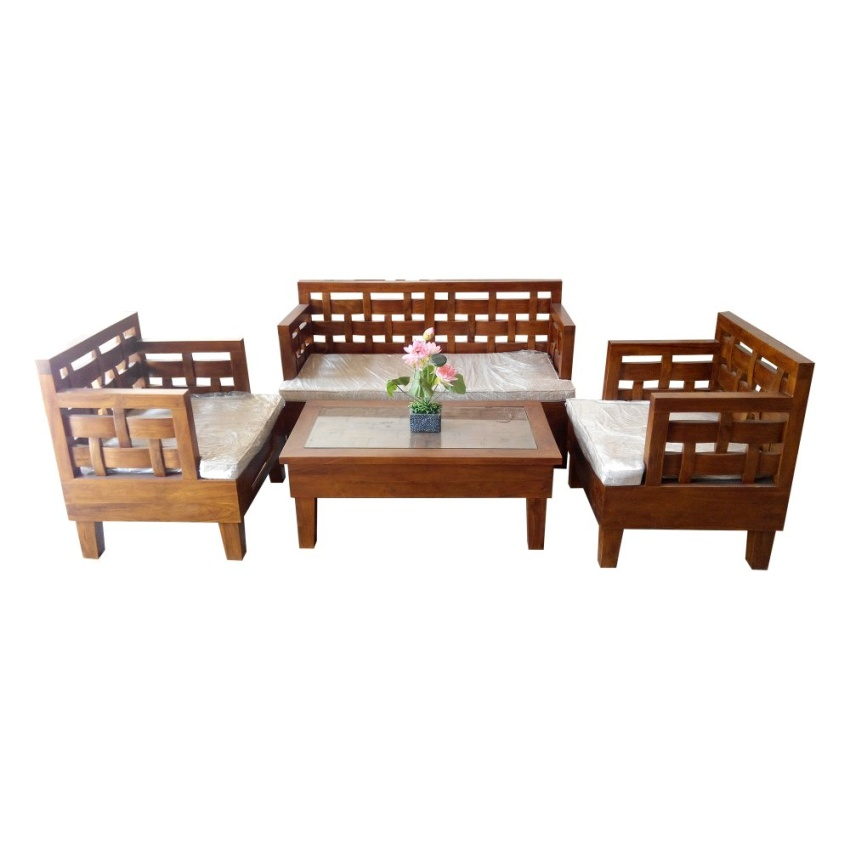Carving Chair: (573, 325, 815, 582), (43, 316, 266, 563)
Carving Table: (280, 404, 556, 565)
